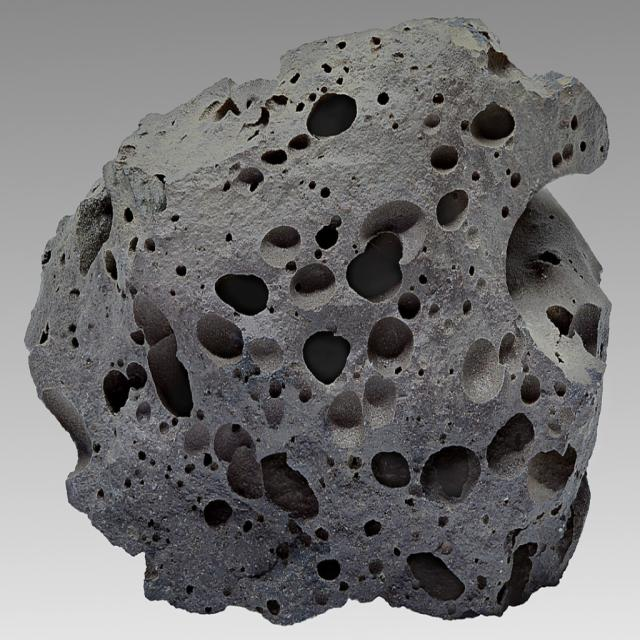Igneous: (11, 11, 608, 636)
